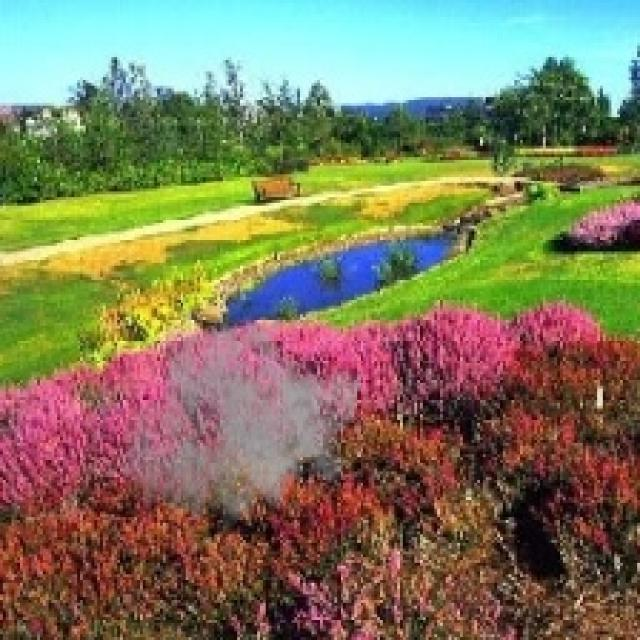smoke: (117, 308, 363, 546)
